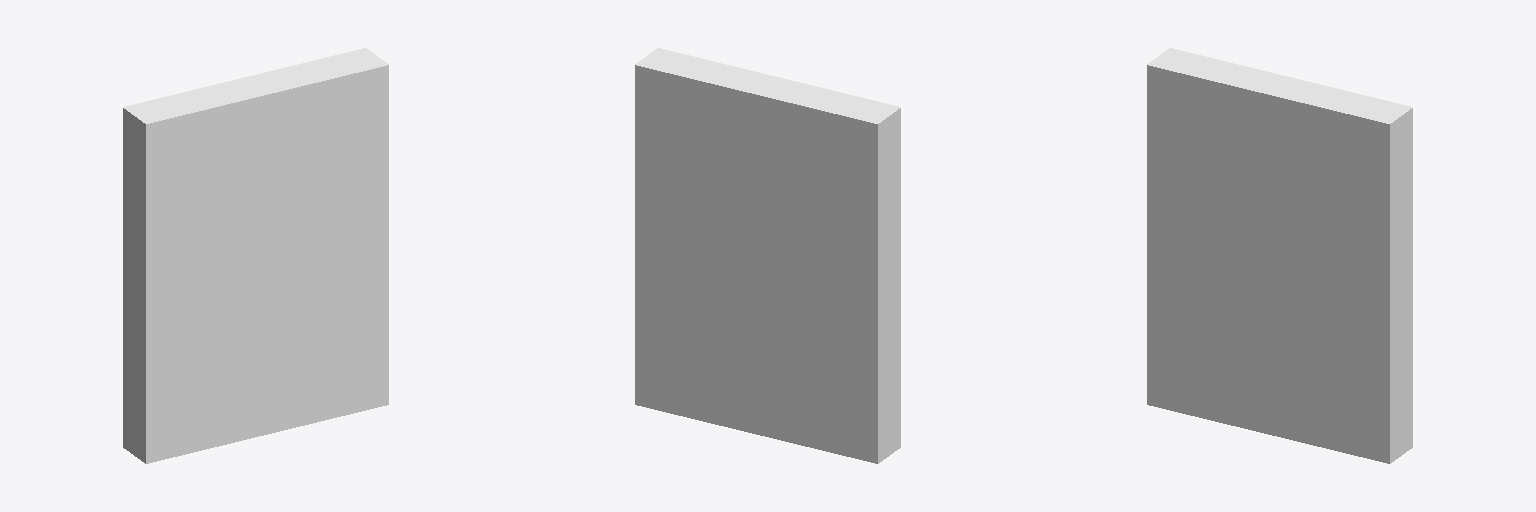
Rendered from door_dungeon_2.obj.
3 views of the same model, side by side, from view 1: azimuth 30°, elevation 25°; view 2: azimuth 150°, elevation 25°; view 3: azimuth 330°, elevation 25° (orthographic).
Parts seen in each view (by area): view 1: object 1; view 2: object 1; view 3: object 1.
Boxes of the visible parts, box(x1,y1,x2,y2) form: object 1: box(123, 48, 388, 463); object 1: box(635, 48, 900, 463); object 1: box(1147, 48, 1412, 463).
Size of the model in its own units: 1.8 by 2.4 by 0.3.